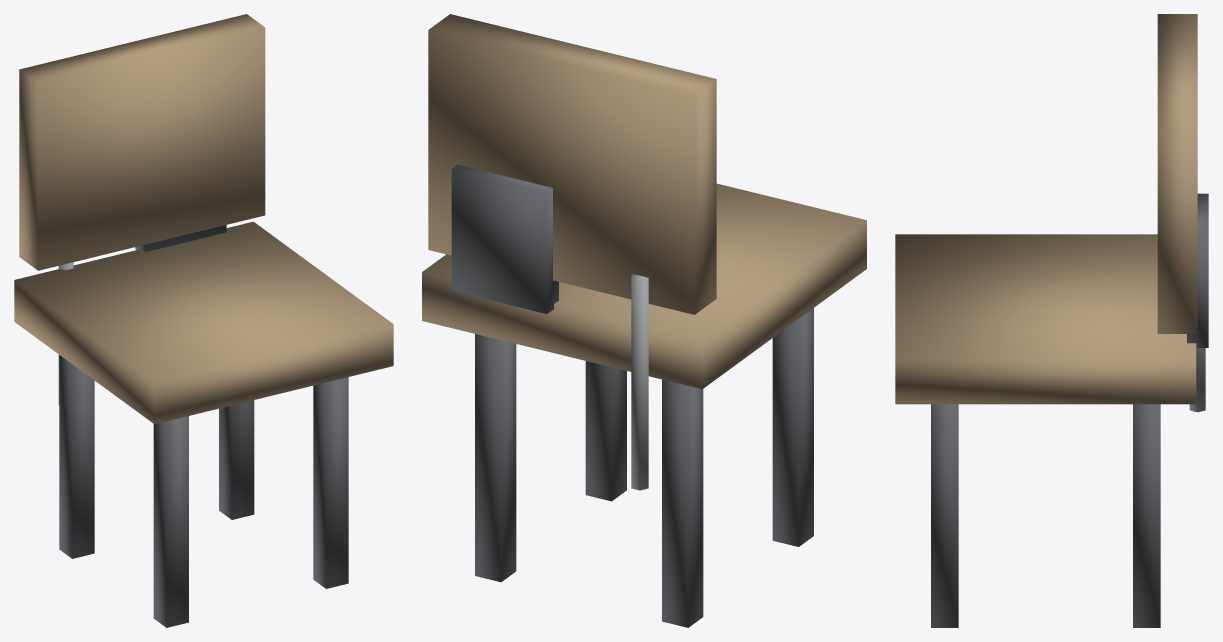
Rendered from school_chair__service.glb.
The picture shows the model from 3 angles, left to right: view 1: azimuth 30°, elevation 25°; view 2: azimuth 150°, elevation 25°; view 3: azimuth 270°, elevation 25°; orthographic projection. The views are drawn at different scales.
Visible parts, largest first — view 1: world; view 2: world; view 3: world.
Part boxes in pixels (bbox=[...]): world: bbox=[14, 14, 393, 627]; world: bbox=[422, 14, 866, 627]; world: bbox=[895, 14, 1208, 627].
Bounding box in the file's own units: 0.4803 × 0.9072 × 0.5077.
